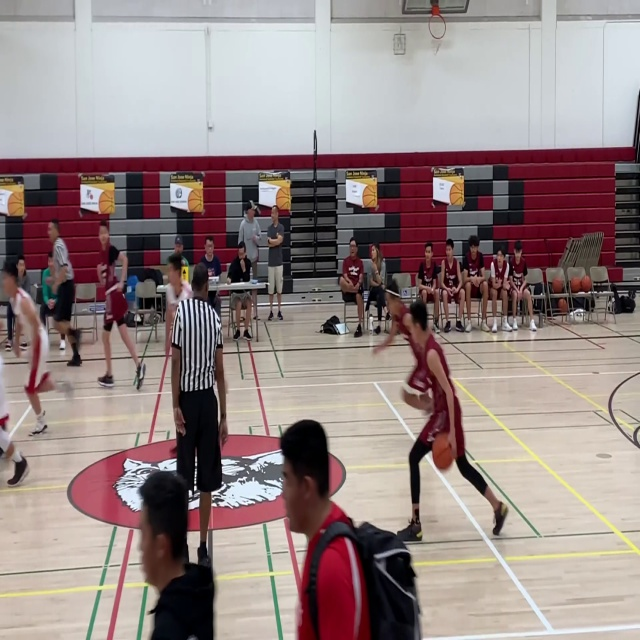Basketball: (431, 433, 454, 470), (580, 275, 592, 292), (552, 279, 564, 293), (570, 277, 581, 292), (557, 299, 567, 310)
